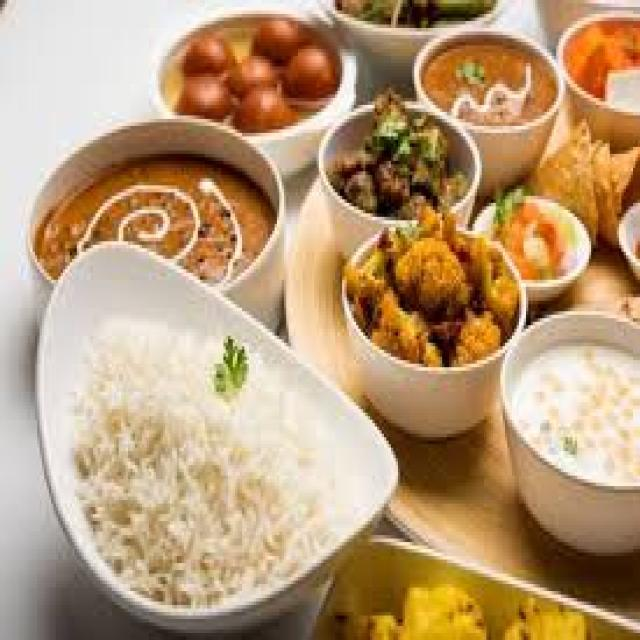dal: (37, 125, 264, 277)
raita: (505, 324, 639, 503)
rice: (92, 301, 373, 606)
sweet: (171, 4, 345, 126)
veg-fry: (362, 226, 503, 356)
